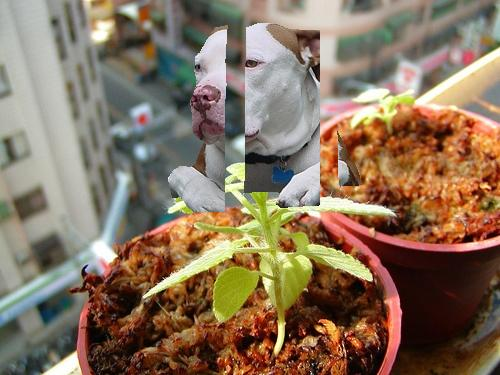tampered: (169, 24, 363, 212)
